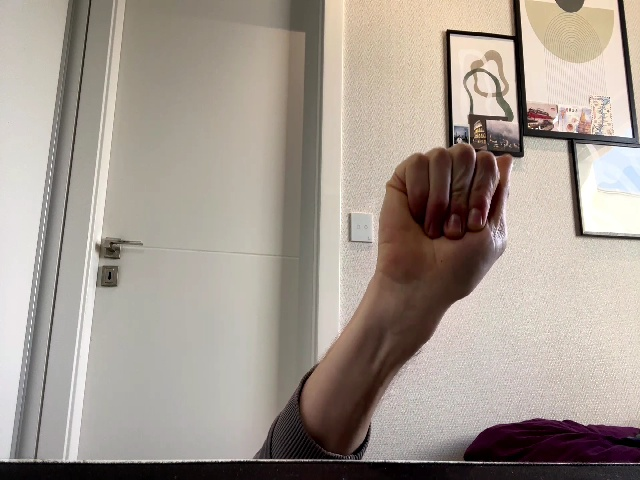A: (377, 143, 514, 299)
